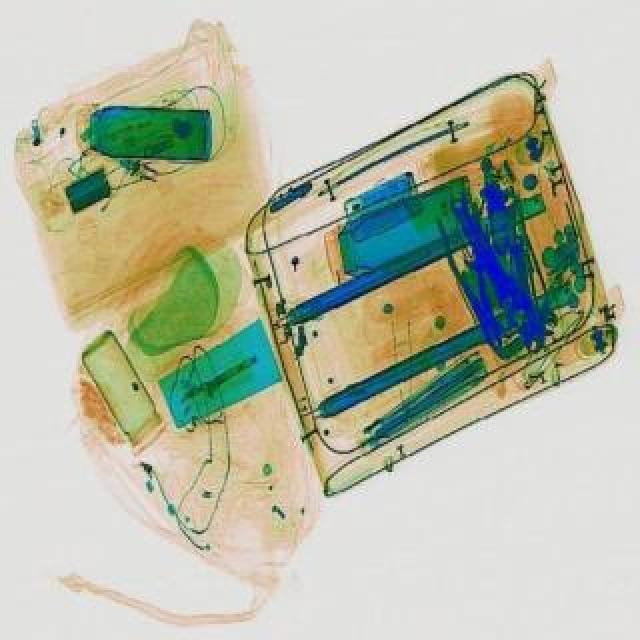scissors: (442, 188, 534, 314)
wrench: (432, 208, 518, 352)
